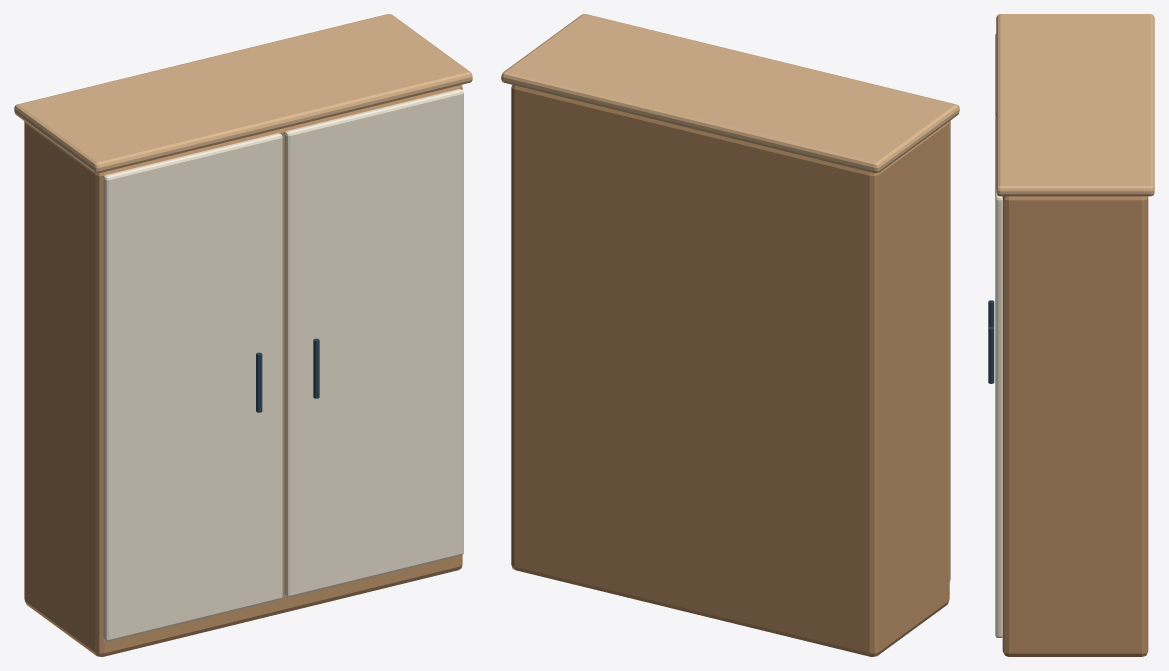
Rendered from wardrobe.glb.
3 renders of one model, left to right at view 1: azimuth 30°, elevation 25°; view 2: azimuth 150°, elevation 25°; view 3: azimuth 270°, elevation 25°, orthographic. The views are drawn at different scales.
Parts seen in each view (by area): view 1: wardrobe_Mesh; view 2: wardrobe_Mesh; view 3: wardrobe_Mesh.
Part boxes in pixels (<box>): wardrobe_Mesh: <box>14,14,472,656</box>; wardrobe_Mesh: <box>501,14,959,656</box>; wardrobe_Mesh: <box>988,14,1154,656</box>.
Bounding box in the file's own units: 1.65 × 2.08 × 0.662.
